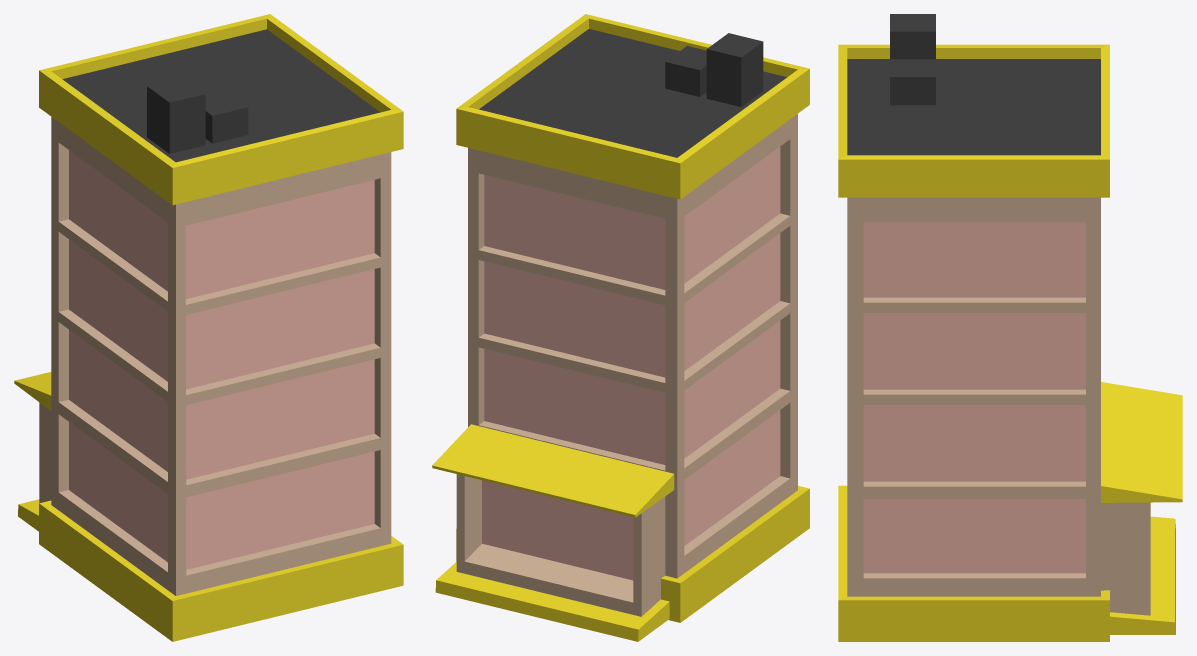
Rendered from house_cartoon_1.glb.
3 renders of one model, left to right at view 1: azimuth 30°, elevation 25°; view 2: azimuth 150°, elevation 25°; view 3: azimuth 270°, elevation 25°, orthographic. The views are drawn at different scales.
Parts seen in each view (by area): view 1: House_3_World ap_0; view 2: House_3_World ap_0; view 3: House_3_World ap_0.
Boxes of the visible parts, x1,y1,x2,y2 form: House_3_World ap_0: (14, 14, 403, 641); House_3_World ap_0: (432, 14, 809, 641); House_3_World ap_0: (838, 14, 1182, 641).
Size of the model in its own units: 5.49 by 11.68 by 6.95.
Materials: 1 (1 with a texture image).
